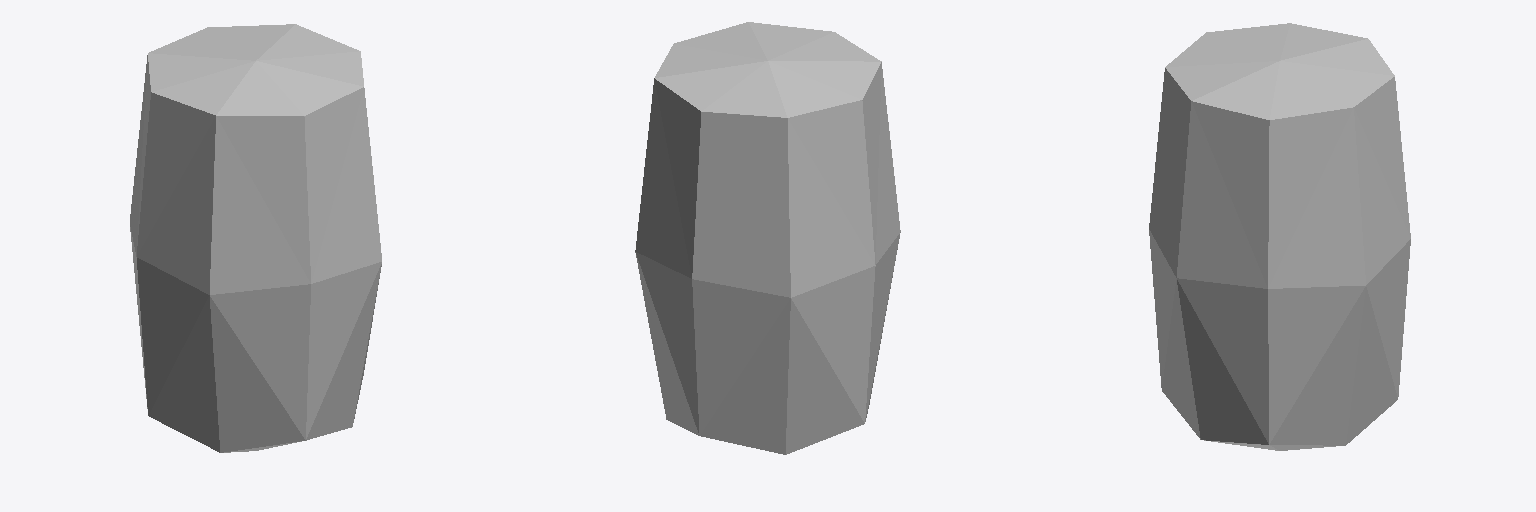
File: shin.obj
The picture shows the model from 3 angles: view 1: azimuth 30°, elevation 25°; view 2: azimuth 150°, elevation 25°; view 3: azimuth 270°, elevation 25°; orthographic projection.
Parts seen in each view (by area): view 1: Cube_Cube.000; view 2: Cube_Cube.000; view 3: Cube_Cube.000.
Boxes of the visible parts, x1,y1,x2,y2 form: Cube_Cube.000: [130, 24, 381, 452]; Cube_Cube.000: [635, 22, 900, 454]; Cube_Cube.000: [1149, 23, 1410, 450].
Bounding box in the file's own units: 0.612 × 1.01 × 0.612.